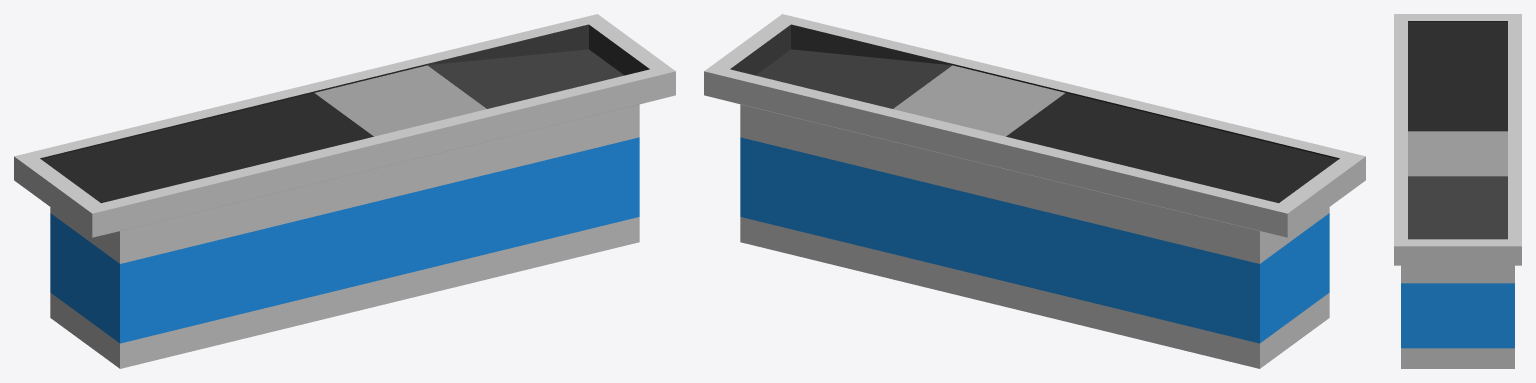
The model's file is Desk.fbx.
The picture shows the model from 3 angles, left to right: view 1: azimuth 30°, elevation 25°; view 2: azimuth 150°, elevation 25°; view 3: azimuth 270°, elevation 25°; orthographic projection. The views are drawn at different scales.
Visible parts, largest first — view 1: Cube.002; view 2: Cube.002; view 3: Cube.002.
Part boxes in pixels (x1=…): Cube.002: x1=14, y1=14, x2=675, y2=368; Cube.002: x1=704, y1=14, x2=1365, y2=368; Cube.002: x1=1394, y1=14, x2=1521, y2=368.
Size of the model in its own units: 3595 by 836 by 979.
